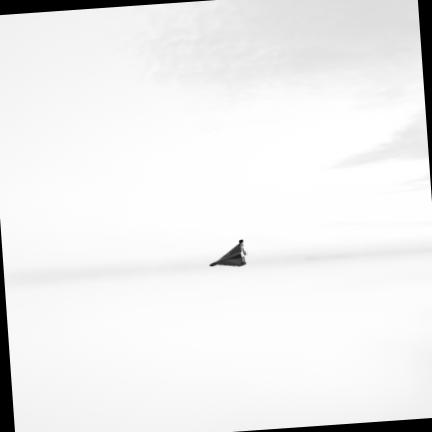Shahed: (210, 239, 246, 265)
